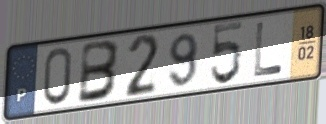0: (42, 46, 75, 108)
2: (123, 32, 161, 100)
5: (208, 19, 244, 88)
9: (165, 30, 204, 89)
B: (76, 38, 123, 106)
L: (252, 20, 284, 80)
